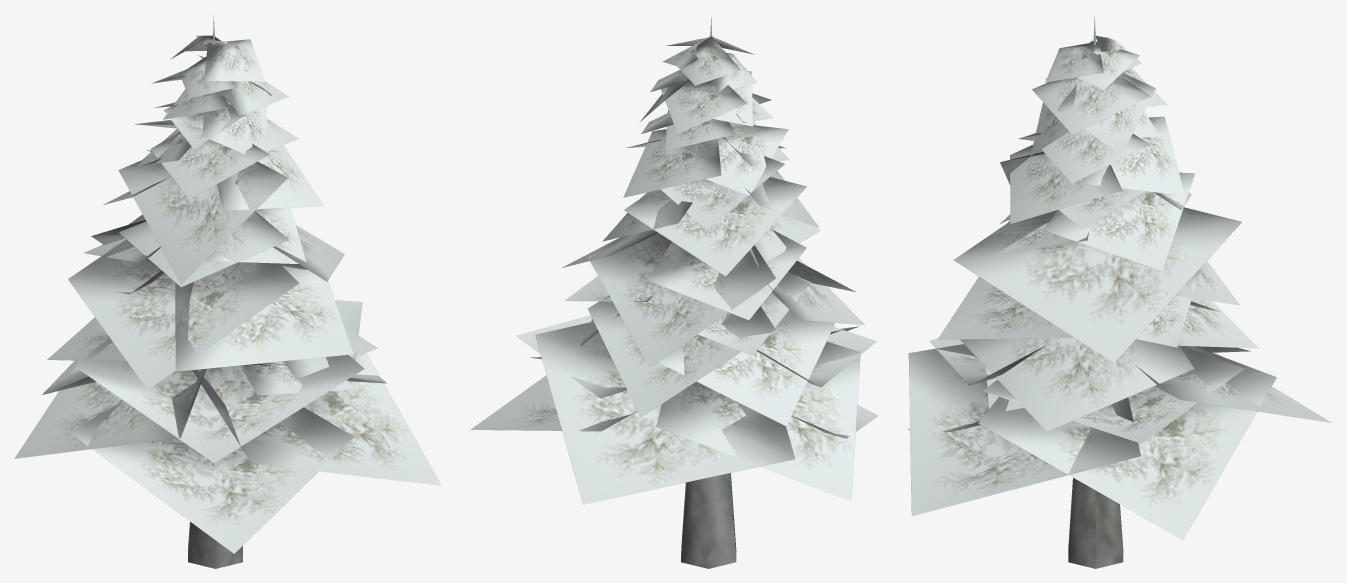
File: tree03.fbx
3 renders of one model, left to right at view 1: azimuth 30°, elevation 25°; view 2: azimuth 150°, elevation 25°; view 3: azimuth 270°, elevation 25°, orthographic.
Visible parts, largest first — view 1: tree03; view 2: tree03; view 3: tree03.
Boxes of the visible parts, <box> form: tree03: <box>14,15,441,568</box>; tree03: <box>470,17,878,568</box>; tree03: <box>907,16,1331,568</box>.
Bounding box in the file's own units: 1522 × 2148 × 1532.
